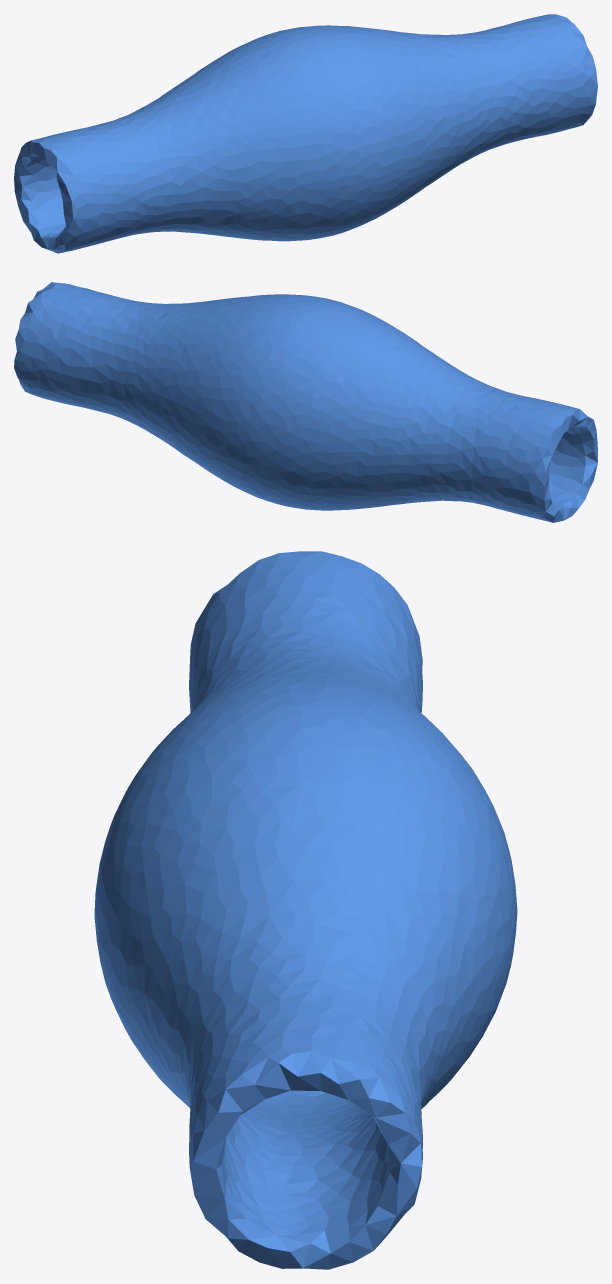
The model's file is 3DPX-021799.glb.
The picture shows the model from 3 angles, top to bottom: view 1: azimuth 30°, elevation 25°; view 2: azimuth 150°, elevation 25°; view 3: azimuth 270°, elevation 25°; orthographic projection. The views are drawn at different scales.
Visible parts, largest first — view 1: valve-repaired-nih3d; view 2: valve-repaired-nih3d; view 3: valve-repaired-nih3d.
Part boxes in pixels (bbox=[...]): valve-repaired-nih3d: bbox=[14, 14, 597, 253]; valve-repaired-nih3d: bbox=[14, 282, 597, 522]; valve-repaired-nih3d: bbox=[94, 551, 517, 1269].
Size of the model in its own units: 102 by 35.13 by 35.15.
